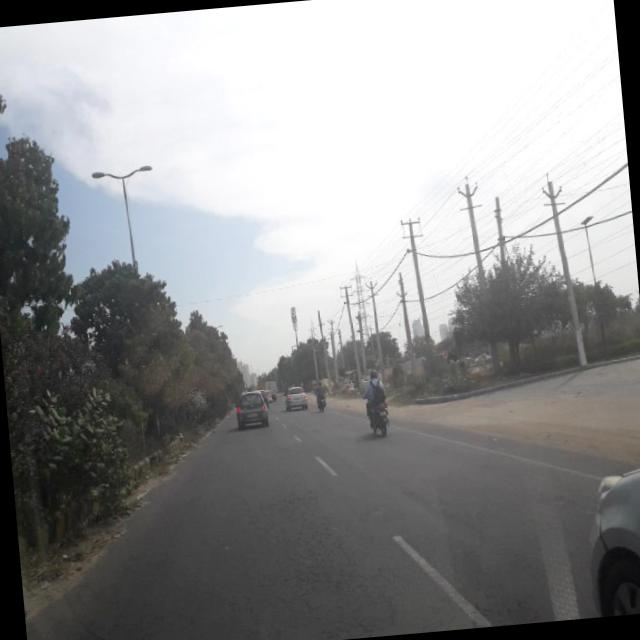crack: (93, 440, 418, 640), (409, 462, 604, 632)
